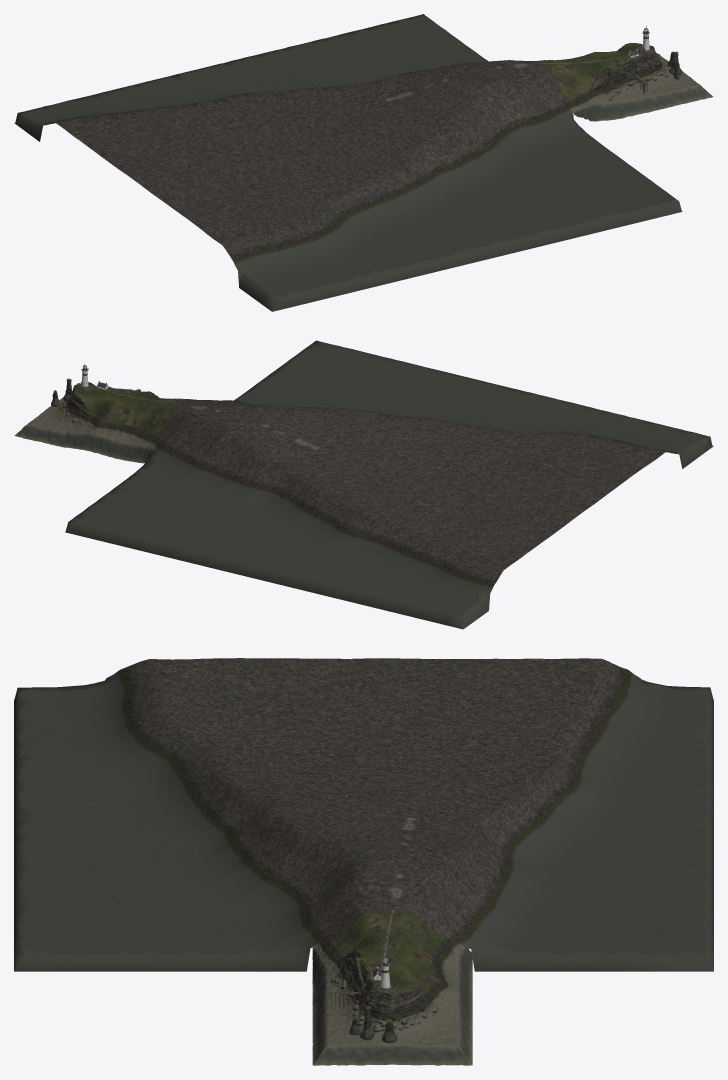
Rendered from storm-light.glb.
The picture shows the model from 3 angles, top to bottom: view 1: azimuth 30°, elevation 25°; view 2: azimuth 150°, elevation 25°; view 3: azimuth 270°, elevation 25°; orthographic projection. The views are drawn at different scales.
Parts seen in each view (by area): view 1: HeadlandFar, HeadlandNear; view 2: HeadlandFar, HeadlandNear; view 3: HeadlandFar, HeadlandNear, SeaStacks.
Boxes of the visible parts, bbox=[...] form: HeadlandFar: bbox=[14, 14, 682, 311]; HeadlandNear: bbox=[538, 43, 713, 121]; HeadlandFar: bbox=[65, 340, 713, 629]; HeadlandNear: bbox=[14, 383, 189, 463]; HeadlandFar: bbox=[14, 658, 713, 971]; HeadlandNear: bbox=[312, 908, 472, 1065]; SeaStacks: bbox=[349, 1006, 397, 1042].
Size of the model in its own units: 605 by 65.19 by 490.
15 materials, 10 textured.
